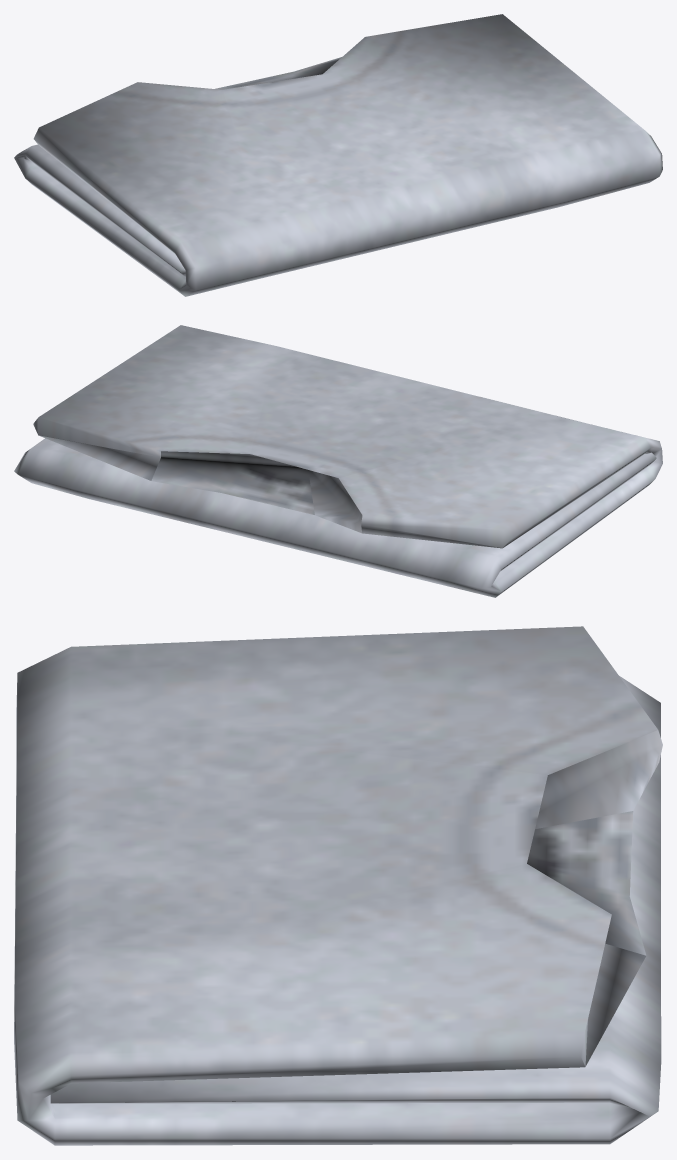
The model's file is paris_t_shirt_folded_base_lod2.glb.
3 views of the same model, one above another, from view 1: azimuth 30°, elevation 25°; view 2: azimuth 150°, elevation 25°; view 3: azimuth 270°, elevation 25° (orthographic). The views are drawn at different scales.
Parts seen in each view (by area): view 1: surf0; view 2: surf0; view 3: surf0.
Boxes of the visible parts, x1=… form: surf0: x1=14, y1=14, x2=662, y2=296; surf0: x1=14, y1=325, x2=662, y2=597; surf0: x1=14, y1=626, x2=662, y2=1145.
Bounding box in the file's own units: 14.73 × 1.98 × 9.63.
